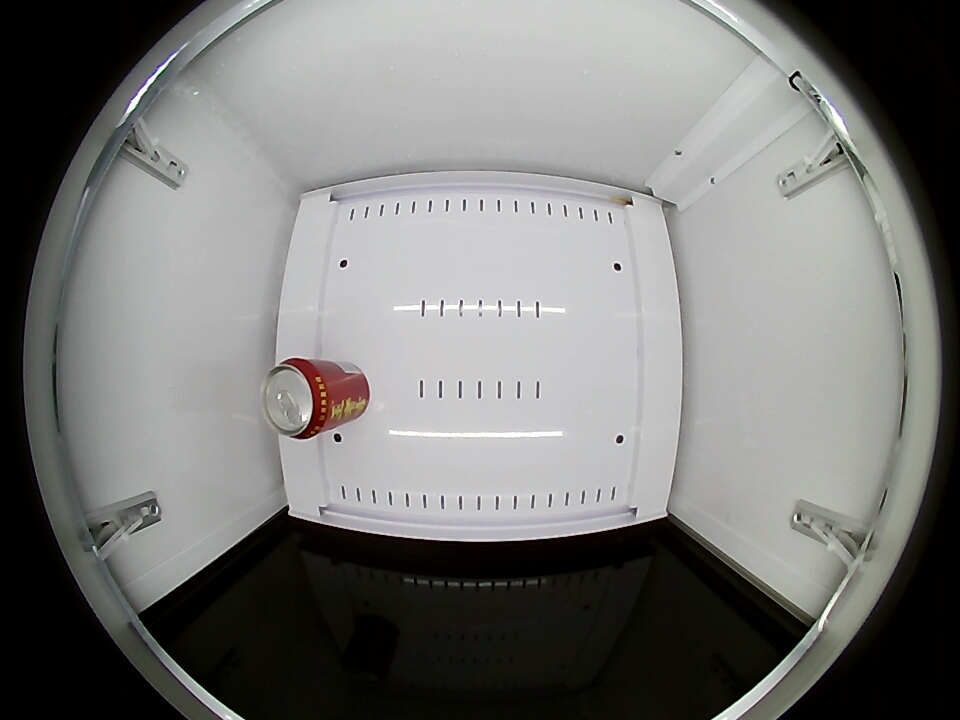wanglaoji-c: (262, 358, 334, 439)
